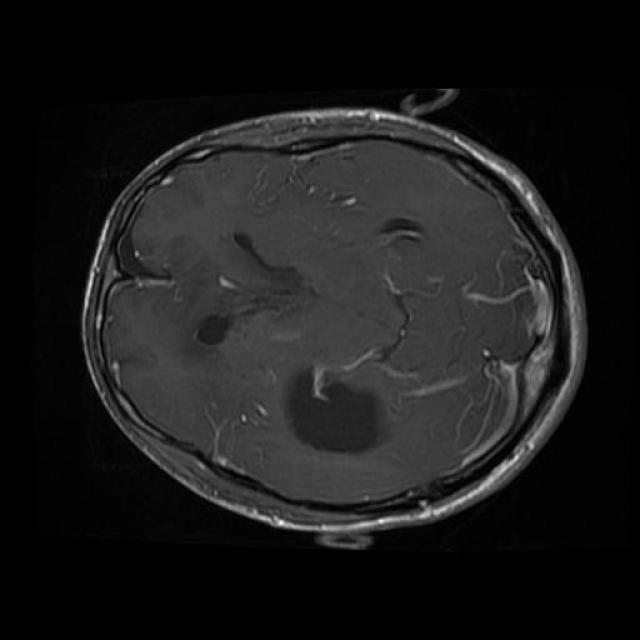Glioma: (283, 370, 384, 453)
